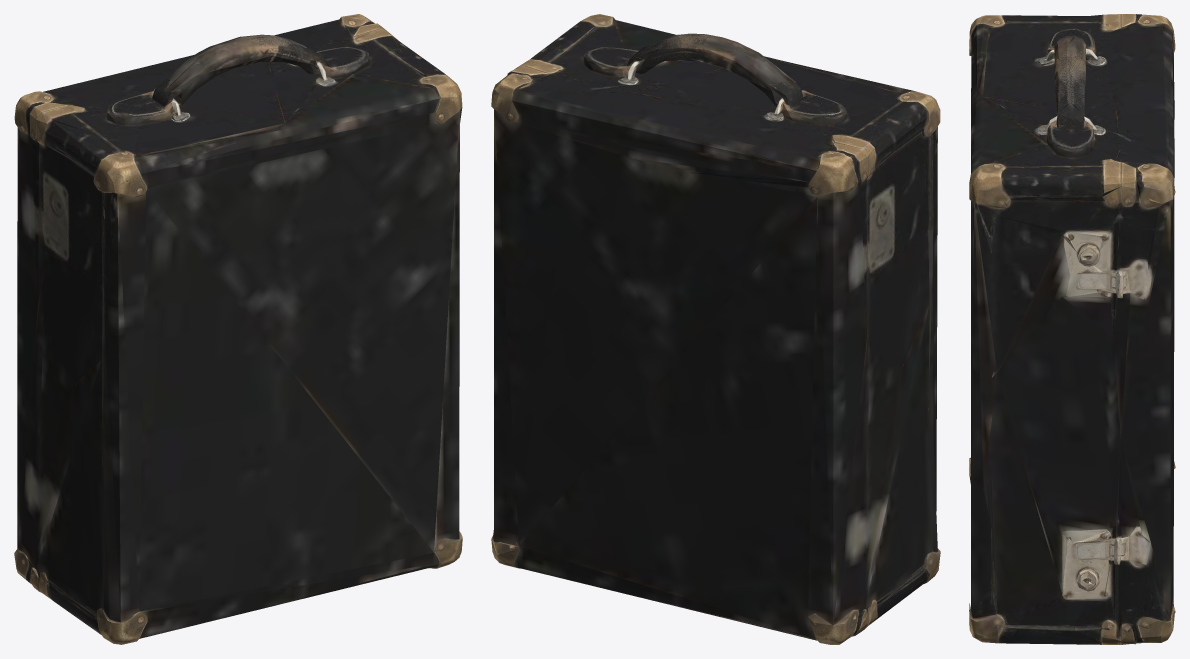
The model's file is sample_case.glb.
3 views of the same model, side by side, from view 1: azimuth 30°, elevation 25°; view 2: azimuth 150°, elevation 25°; view 3: azimuth 270°, elevation 25° (orthographic). The views are drawn at different scales.
Parts seen in each view (by area): view 1: Mesh_0; view 2: Mesh_0; view 3: Mesh_0.
Part boxes in pixels (x1=…): Mesh_0: x1=14, y1=14, x2=462, y2=644; Mesh_0: x1=491, y1=14, x2=940, y2=644; Mesh_0: x1=969, y1=14, x2=1175, y2=644.
Bounding box in the file's own units: 1.36 × 1.9 × 0.6845.
1 material, 1 textured.
